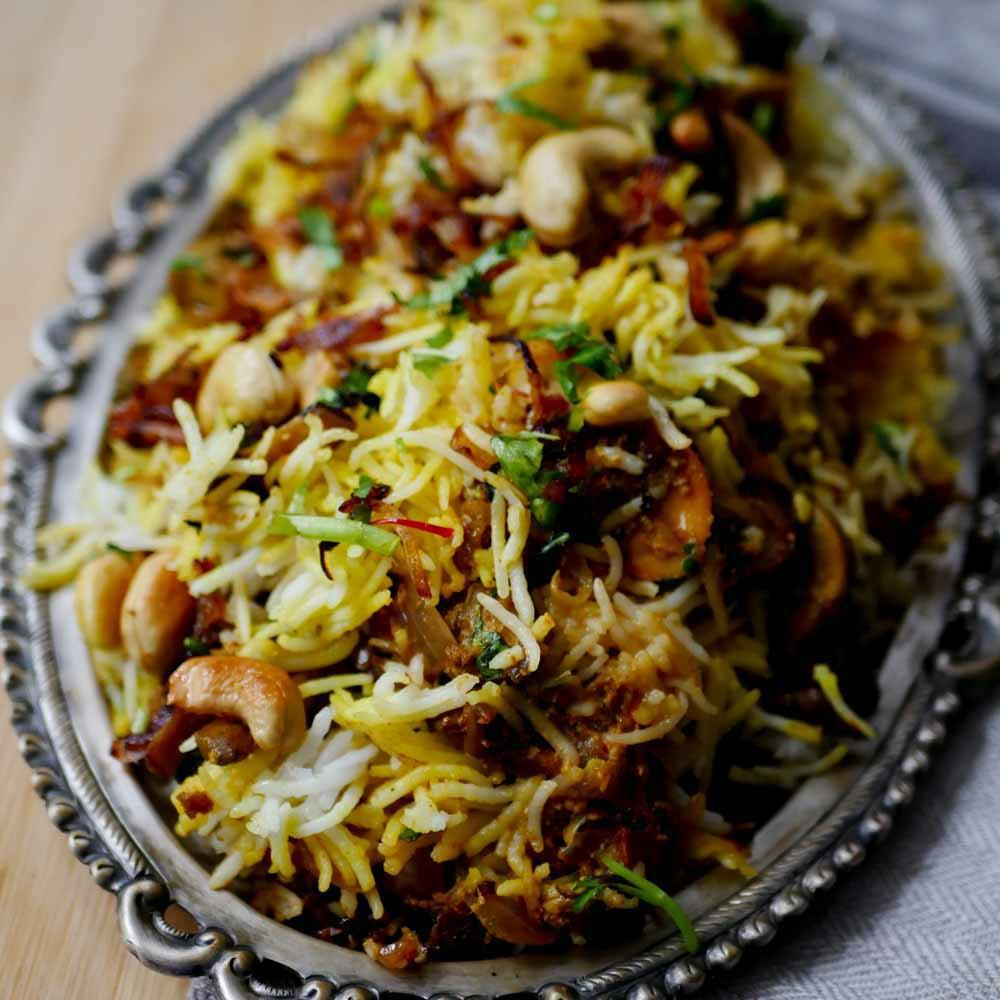Biryani: (31, 0, 967, 982)
